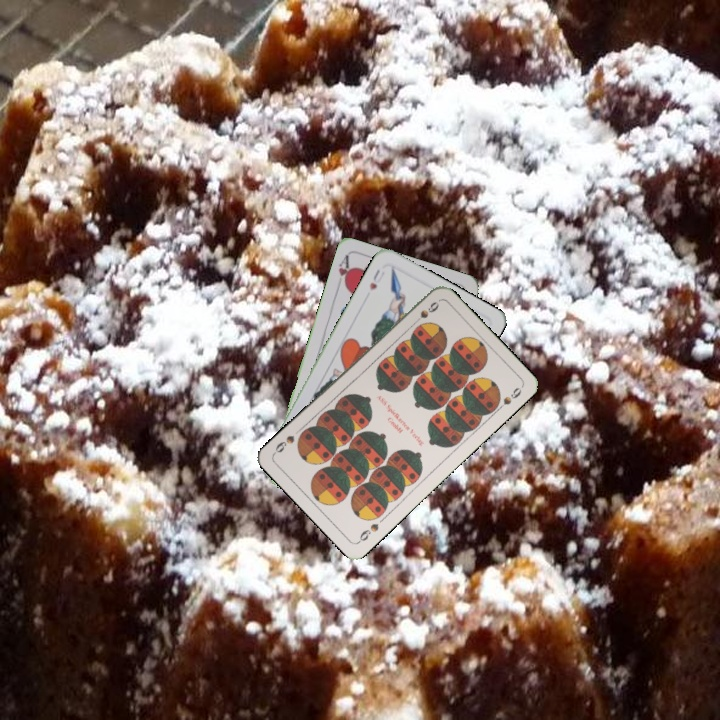HA: (333, 252, 354, 292)
HU: (365, 265, 387, 293)
S9: (408, 298, 442, 328), (354, 519, 381, 545)
